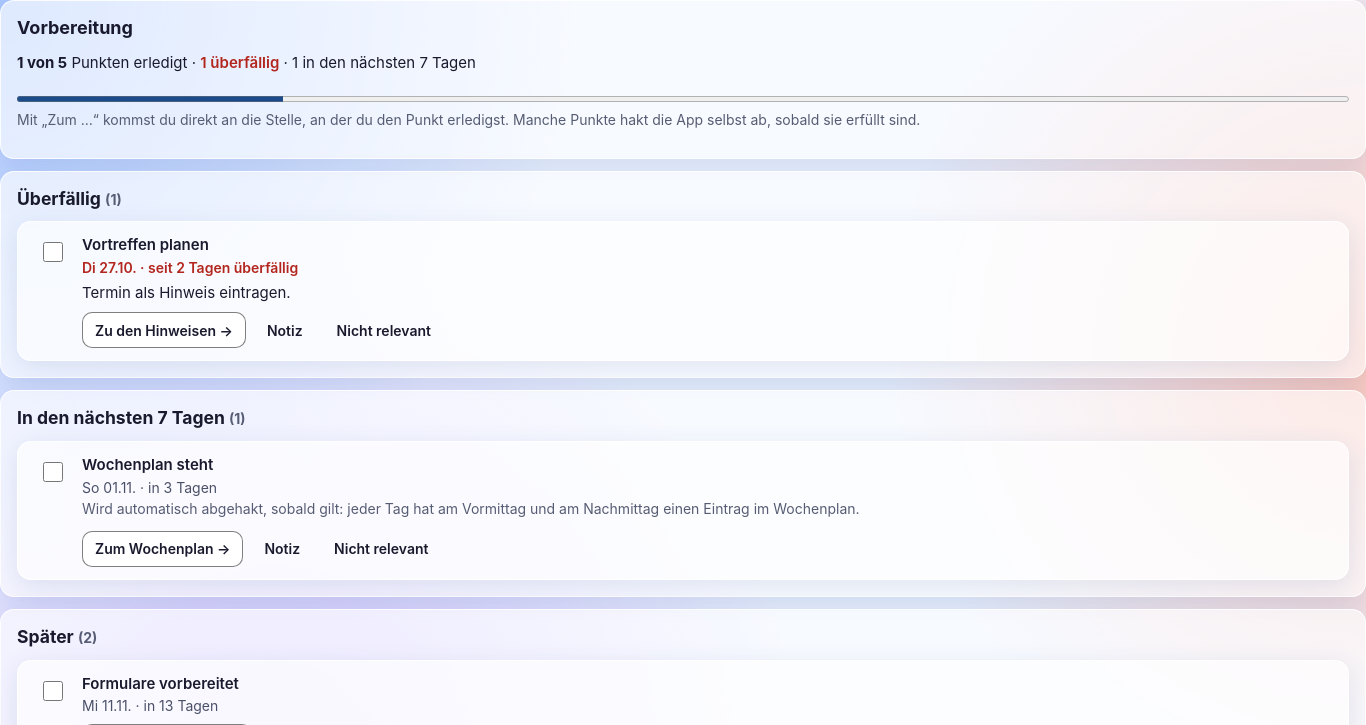
Test: Vorbereitung (Checkliste einer Freizeit) › Fehler beim Speichern werden angezeigt
Click the checkbox named "Vortreffen planen erledigt" next to "Vortreffen planen": [52, 252] box 42,242 -> 62,262
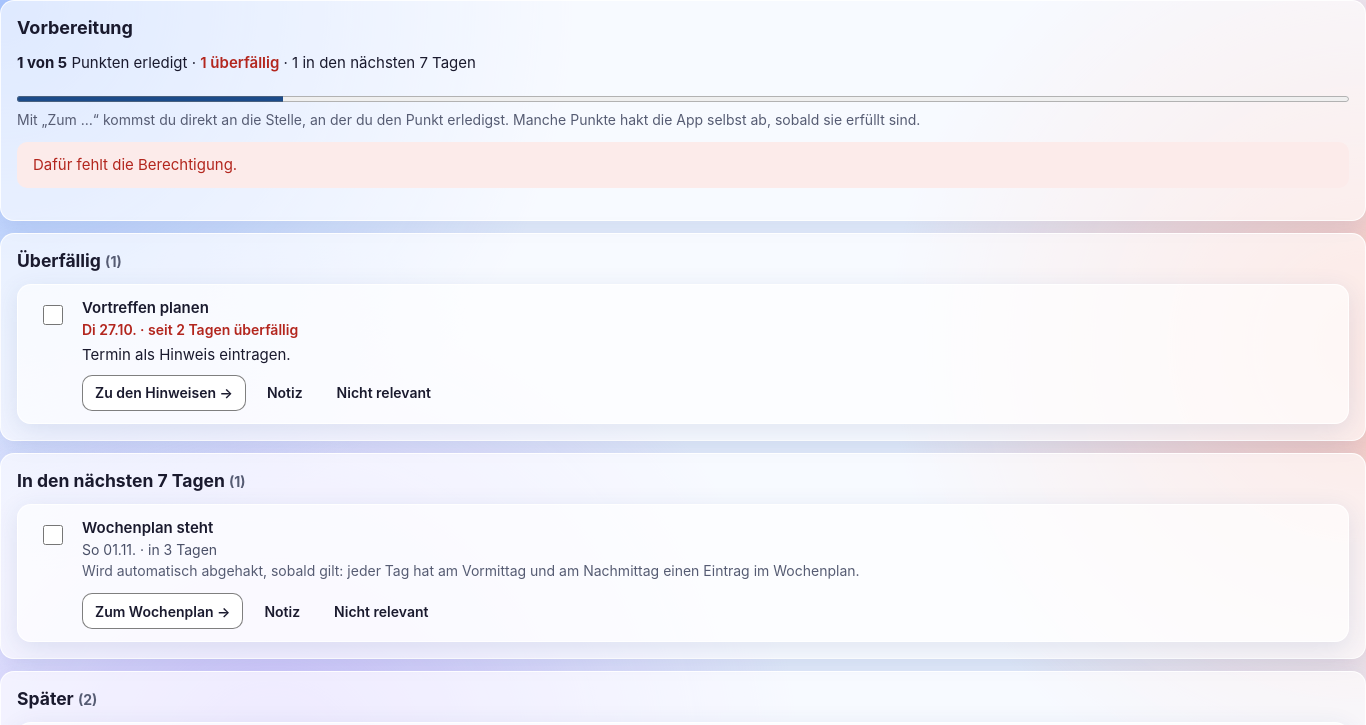
Now the text "Dafür fehlt die Berechtigung." is shown, box 17,142 -> 1349,188
